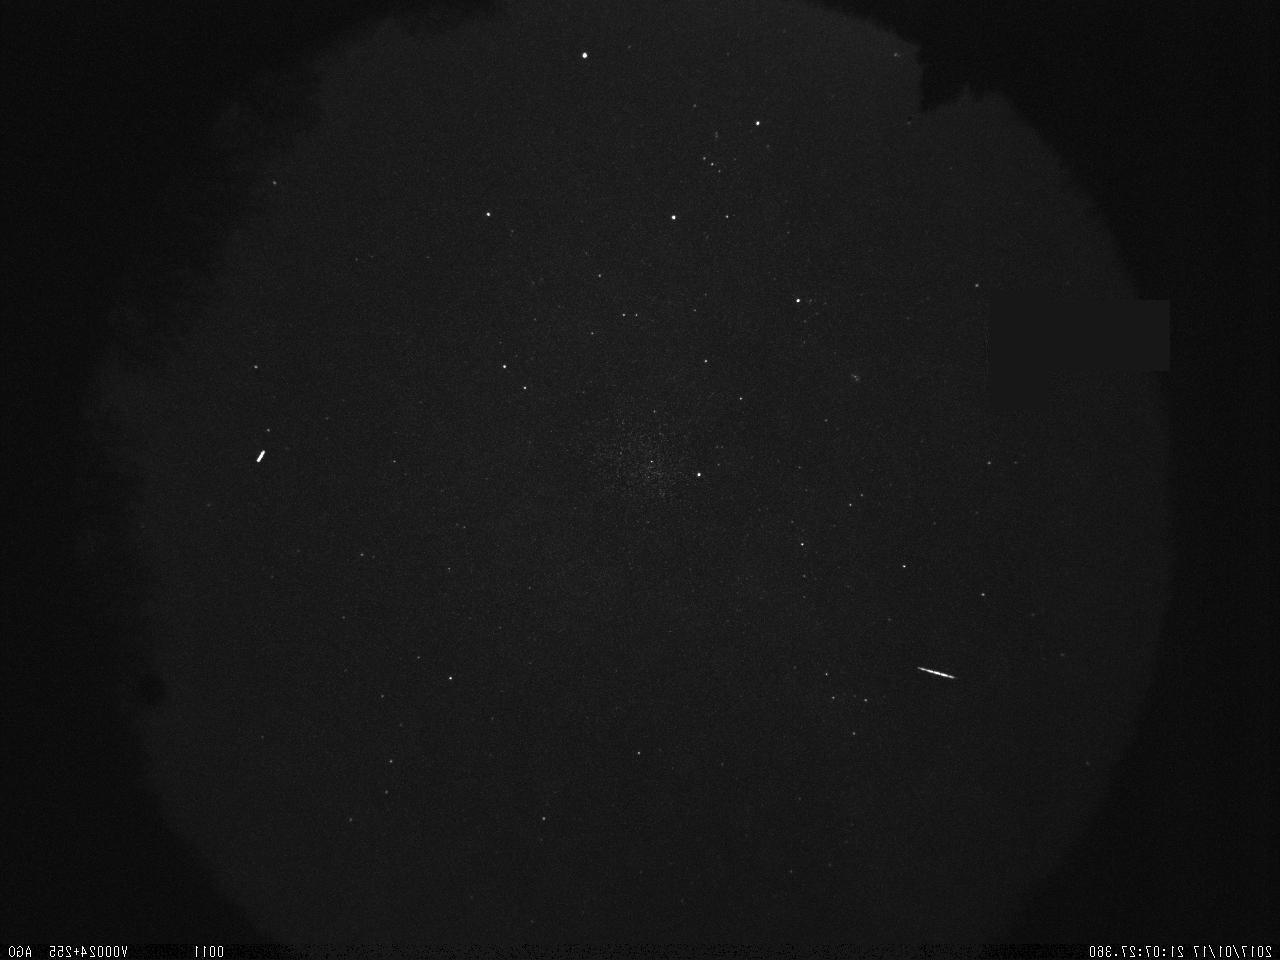meteor: (909, 660, 959, 684), (251, 446, 268, 469)
